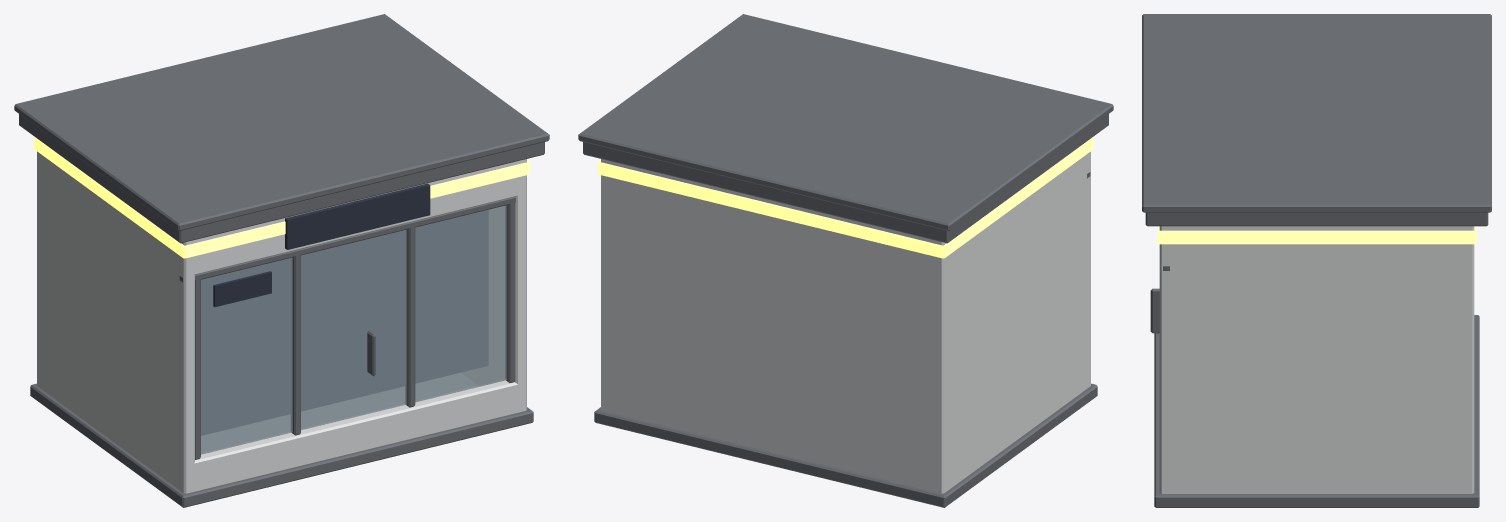
The model's file is fuel-kiosk.glb.
The picture shows the model from 3 angles, left to right: view 1: azimuth 30°, elevation 25°; view 2: azimuth 150°, elevation 25°; view 3: azimuth 270°, elevation 25°; orthographic projection. The views are drawn at different scales.
Visible parts, largest first — view 1: Kiosk_Roof, Kiosk_Walls, Kiosk_Glass, Kiosk_Dark, Kiosk_Orange; view 2: Kiosk_Walls, Kiosk_Roof, Kiosk_Orange; view 3: Kiosk_Roof, Kiosk_Walls, Kiosk_Orange.
Boxes of the visible parts, x1,y1,x2,y2 form: Kiosk_Roof: [14, 14, 549, 507]; Kiosk_Walls: [37, 151, 526, 493]; Kiosk_Glass: [201, 205, 506, 454]; Kiosk_Dark: [201, 183, 488, 435]; Kiosk_Orange: [34, 136, 529, 258]; Kiosk_Walls: [601, 151, 1090, 493]; Kiosk_Roof: [578, 14, 1113, 507]; Kiosk_Orange: [598, 136, 1093, 258]; Kiosk_Roof: [1142, 14, 1491, 507]; Kiosk_Walls: [1159, 226, 1474, 493]; Kiosk_Orange: [1157, 226, 1476, 244].
Bounding box in the file's own units: 13 × 9.73 × 10.
